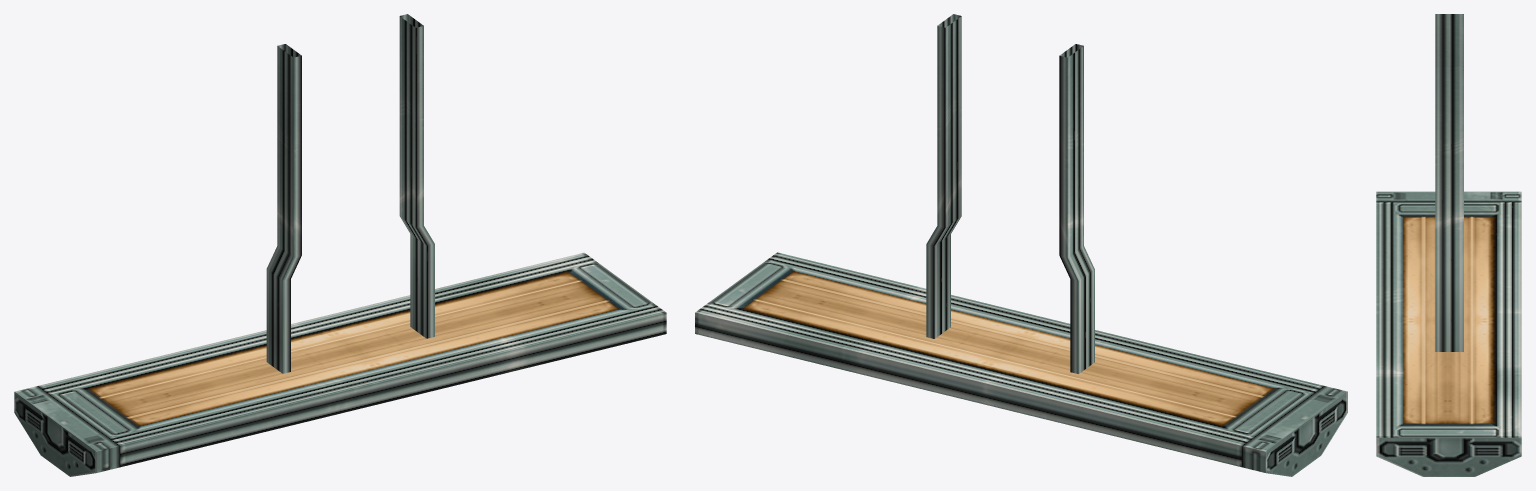
The model's file is mprw_light_zarivka.FBX.
3 renders of one model, left to right at view 1: azimuth 30°, elevation 25°; view 2: azimuth 150°, elevation 25°; view 3: azimuth 270°, elevation 25°, orthographic. The views are drawn at different scales.
Visible parts, largest first — view 1: mprw_light_zarivka; view 2: mprw_light_zarivka; view 3: mprw_light_zarivka.
Part boxes in pixels (<box>): mprw_light_zarivka: <box>14,14,666,476</box>; mprw_light_zarivka: <box>695,14,1347,476</box>; mprw_light_zarivka: <box>1376,14,1521,476</box>.
Bounding box in the file's own units: 680 × 408 × 170.
Materials: 1 (1 with a texture image).
